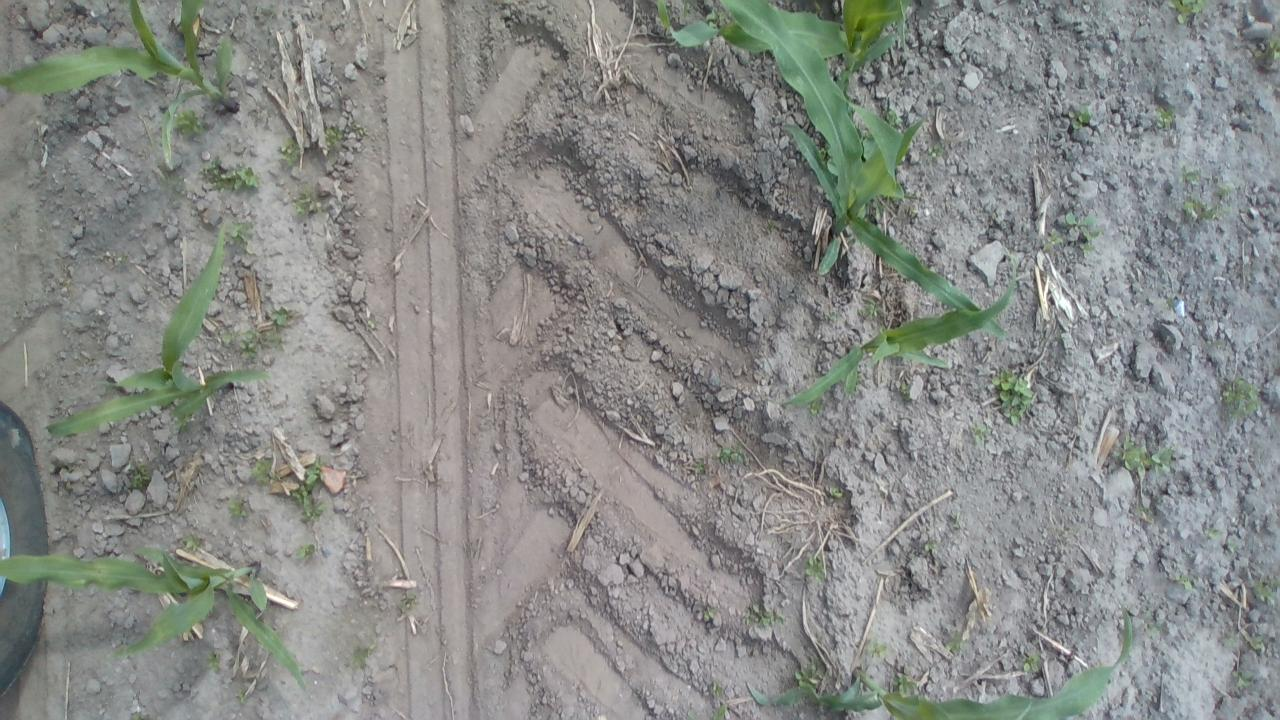Maize: (774, 88, 1016, 344), (41, 219, 272, 437), (745, 592, 1135, 720), (1, 545, 312, 692), (0, 0, 245, 173), (764, 242, 1017, 408), (654, 0, 910, 146)
Weeds: (217, 328, 286, 369), (294, 454, 329, 519), (989, 371, 1031, 425), (1114, 436, 1174, 472), (1065, 209, 1103, 258), (201, 158, 260, 187), (1220, 378, 1260, 420), (1204, 523, 1246, 556), (741, 601, 784, 629), (1170, 1, 1206, 30), (222, 219, 259, 247), (168, 110, 208, 134), (1184, 198, 1220, 224), (795, 662, 828, 690), (324, 123, 375, 141), (121, 464, 150, 494), (250, 455, 278, 486), (1250, 38, 1280, 62), (351, 643, 377, 670), (276, 138, 302, 165), (1040, 226, 1066, 253), (1064, 105, 1092, 130), (291, 188, 315, 217), (802, 555, 828, 581), (1254, 576, 1280, 602), (1245, 630, 1267, 658), (968, 421, 992, 445), (880, 108, 904, 132), (1020, 651, 1042, 677), (716, 446, 746, 465), (269, 306, 292, 330), (946, 628, 964, 656), (866, 640, 892, 658), (294, 543, 316, 562), (864, 296, 882, 318), (1154, 108, 1173, 128), (1213, 182, 1232, 200), (182, 536, 202, 552), (1178, 574, 1195, 592), (401, 595, 420, 610), (1234, 673, 1254, 687), (827, 484, 846, 498), (1184, 169, 1202, 183), (208, 651, 220, 671), (232, 498, 245, 516), (694, 458, 706, 476), (925, 144, 939, 158), (701, 605, 714, 619), (232, 692, 246, 704), (901, 384, 910, 397)
